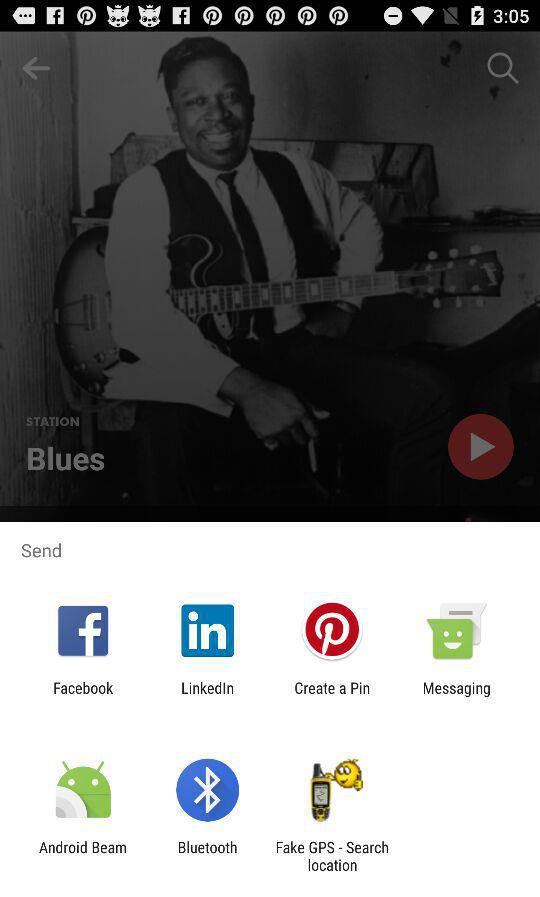Icon: (447, 414, 514, 481), (176, 758, 241, 823), (58, 605, 110, 657), (487, 52, 520, 86), (23, 57, 51, 82)
Image: (302, 600, 364, 662), (309, 756, 365, 823), (426, 601, 489, 660), (56, 760, 112, 819), (181, 604, 236, 658)
Modal: (1, 523, 540, 897)
Text: (276, 840, 390, 872), (27, 447, 105, 471), (39, 840, 128, 854), (423, 681, 491, 698), (294, 681, 371, 696), (54, 681, 115, 696), (179, 840, 238, 854), (182, 681, 235, 695), (22, 542, 63, 559), (26, 417, 80, 428)
UpperTaskBar: (1, 1, 540, 33)
